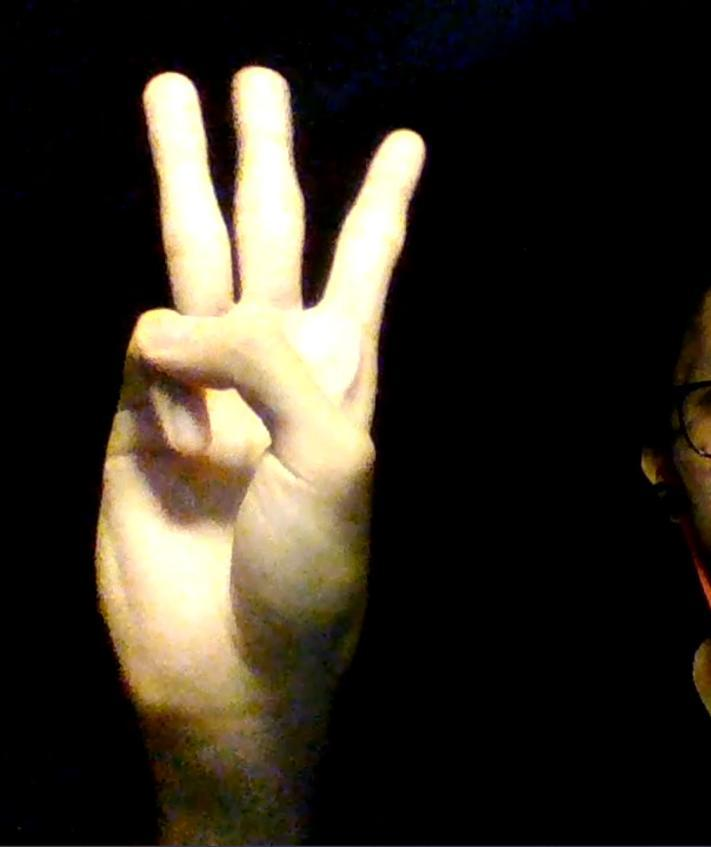w: (93, 59, 430, 713)
